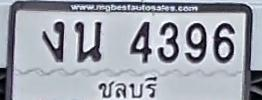3: (157, 21, 178, 62)
4: (130, 21, 152, 63)
6: (213, 22, 234, 63)
9: (185, 22, 206, 63)
A07: (42, 20, 64, 62)
A25: (74, 21, 102, 62)
CBI: (96, 73, 161, 100)
